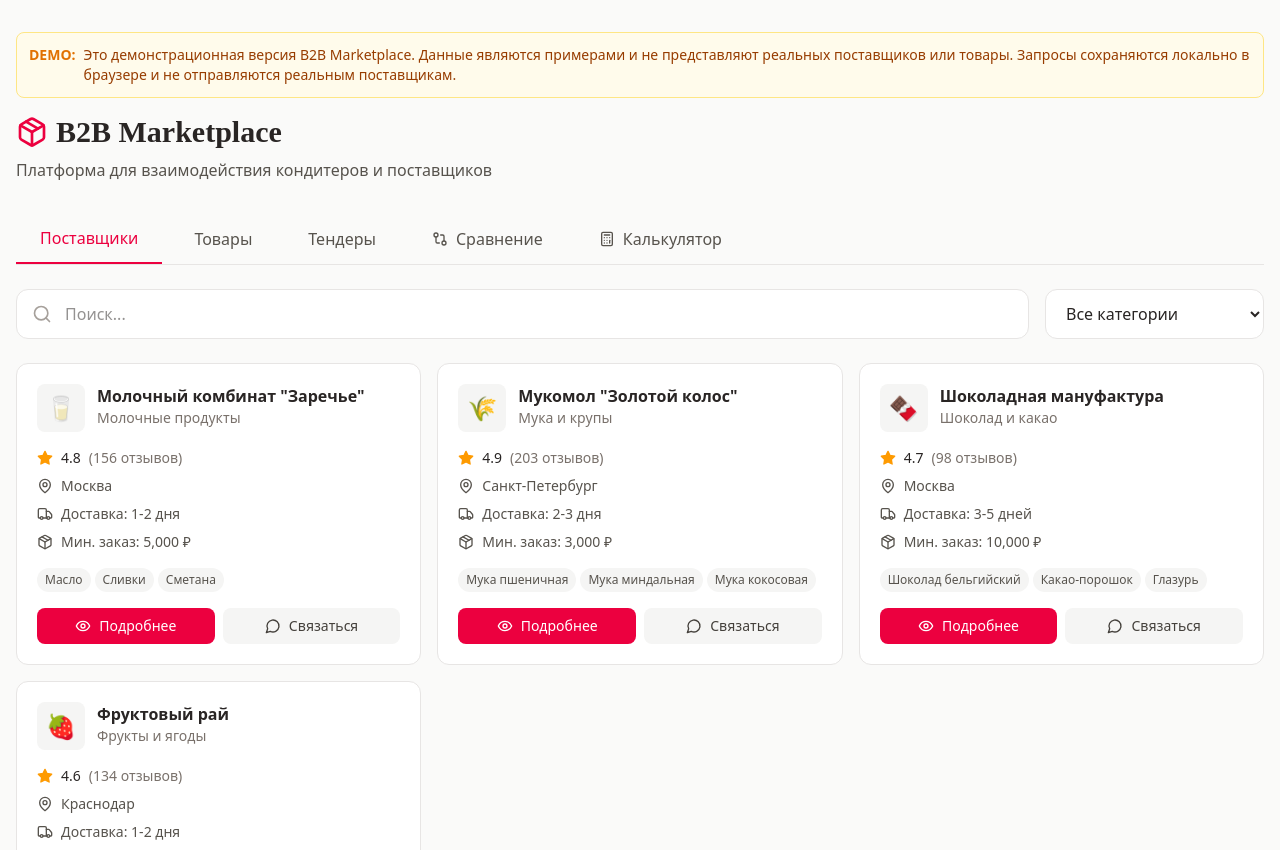
Test: B2B Marketplace V2 › Закупочный запрос › должен открывать форму при клике на "Заказать"
The width and height of the screenshot is (1280, 850).
Click the button "Товары".
click(223, 239)  # box [170,214,276,264]
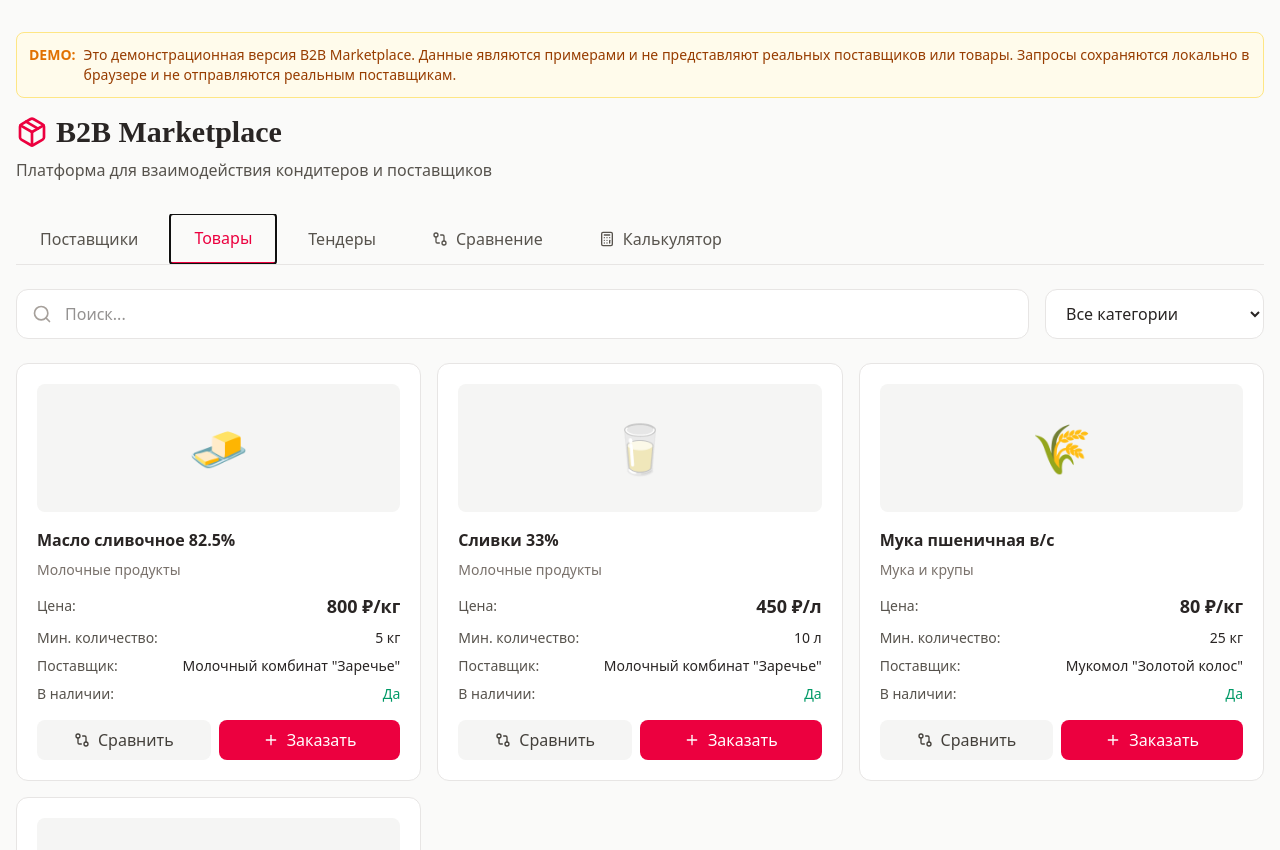
Click the button "Заказать" below "800".
click(310, 740)  # box [219,720,400,760]
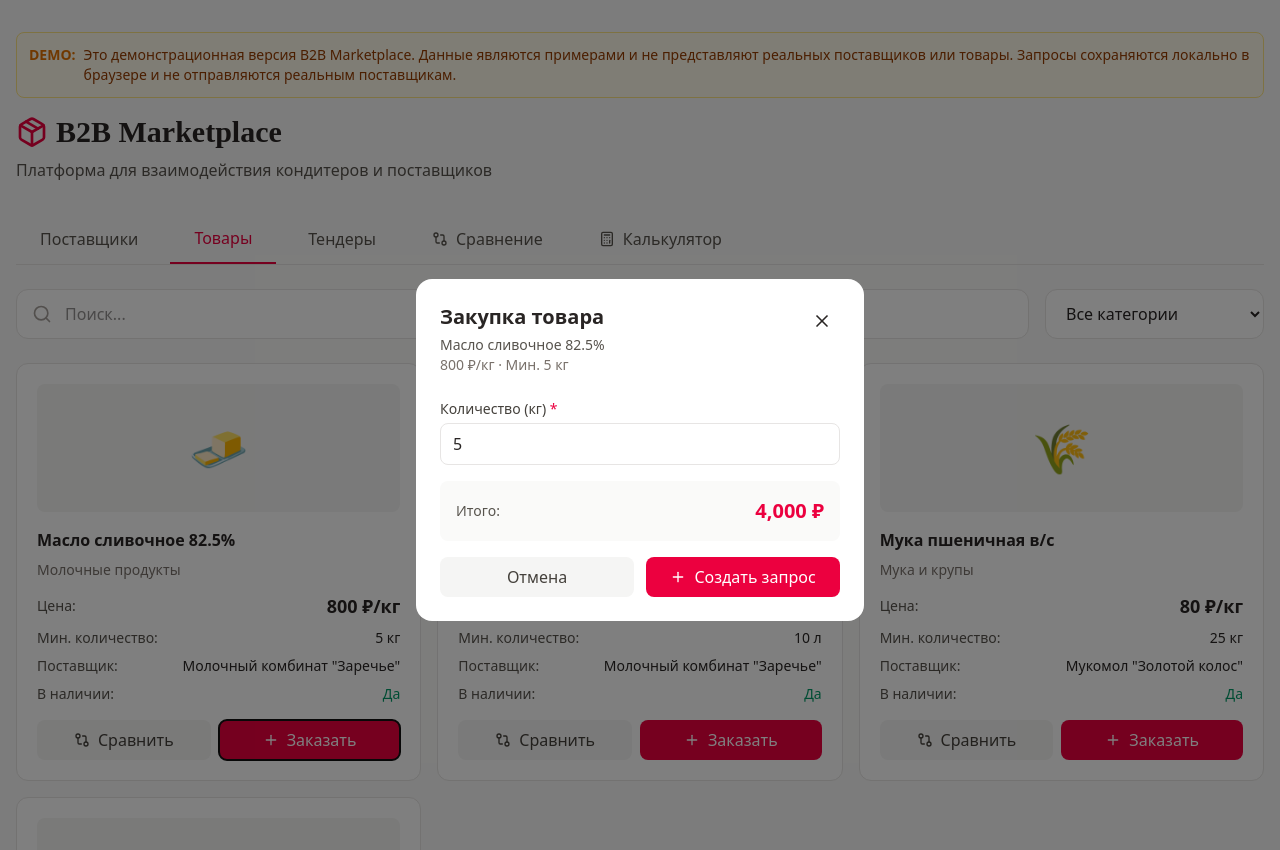
Check: the heading "Закупка товара" is shown, box [440,303,605,331]
